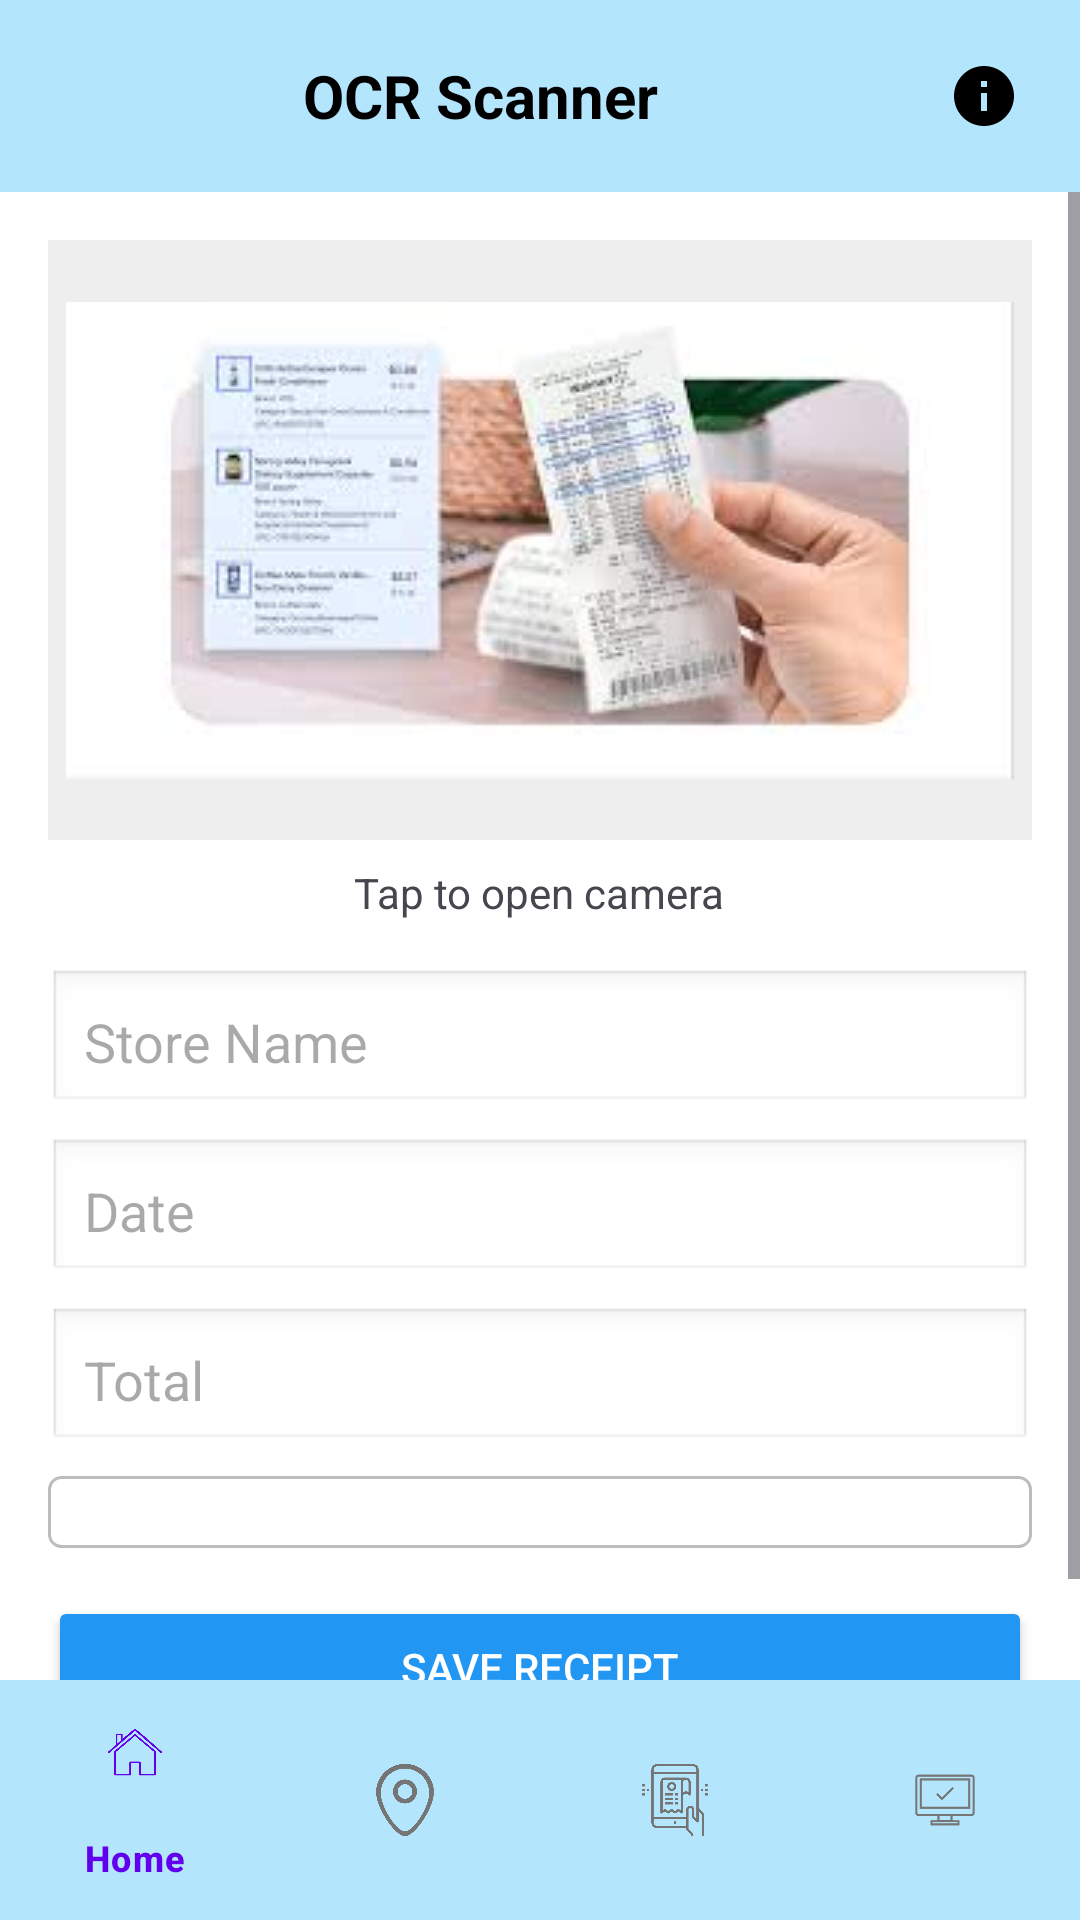

Where to tap for icons on this 1080 × 1920 app screen, as [x,y]:
Information: [984,96]
